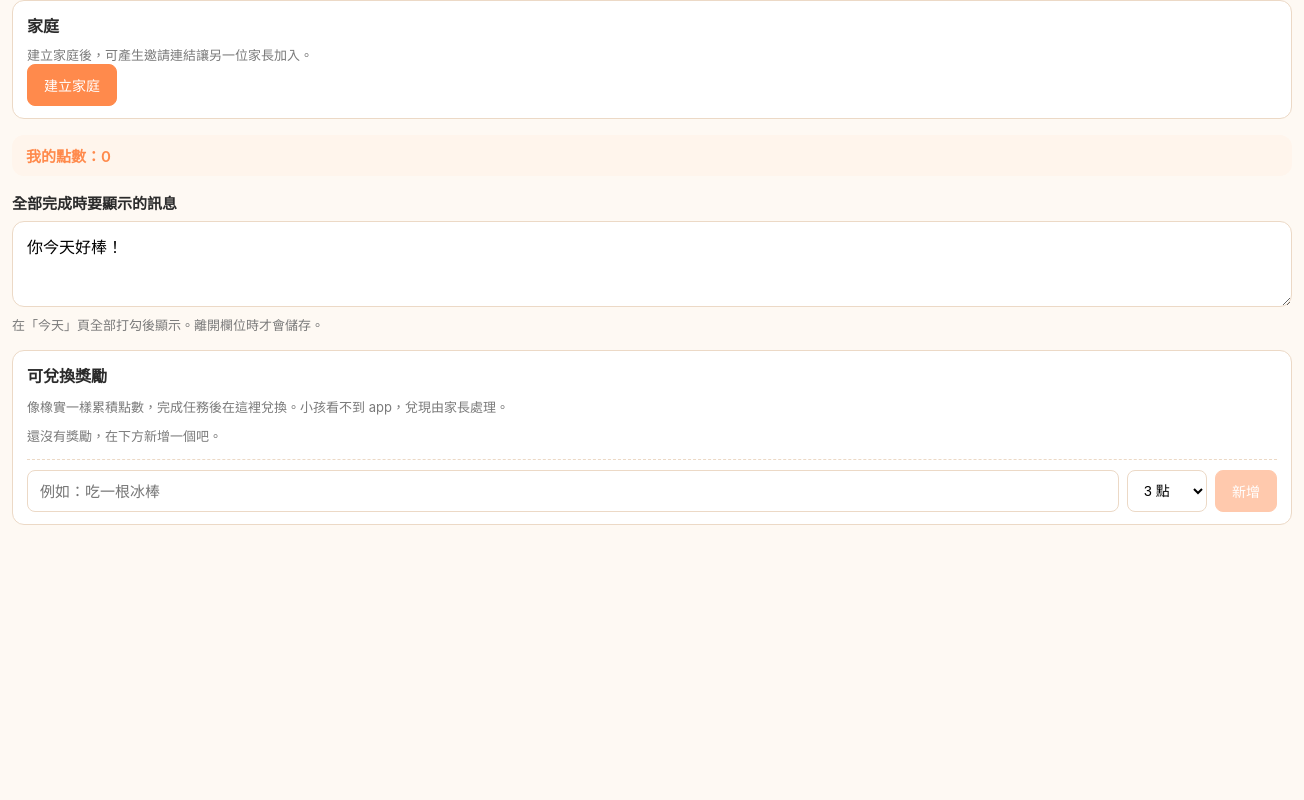
it: SettingsPage family section › shows offline message when creating family while offline
This screenshot has width=1304, height=800.
Click the button with test id "create-family-button": (72, 85) x1=27 y1=64 x2=117 y2=106
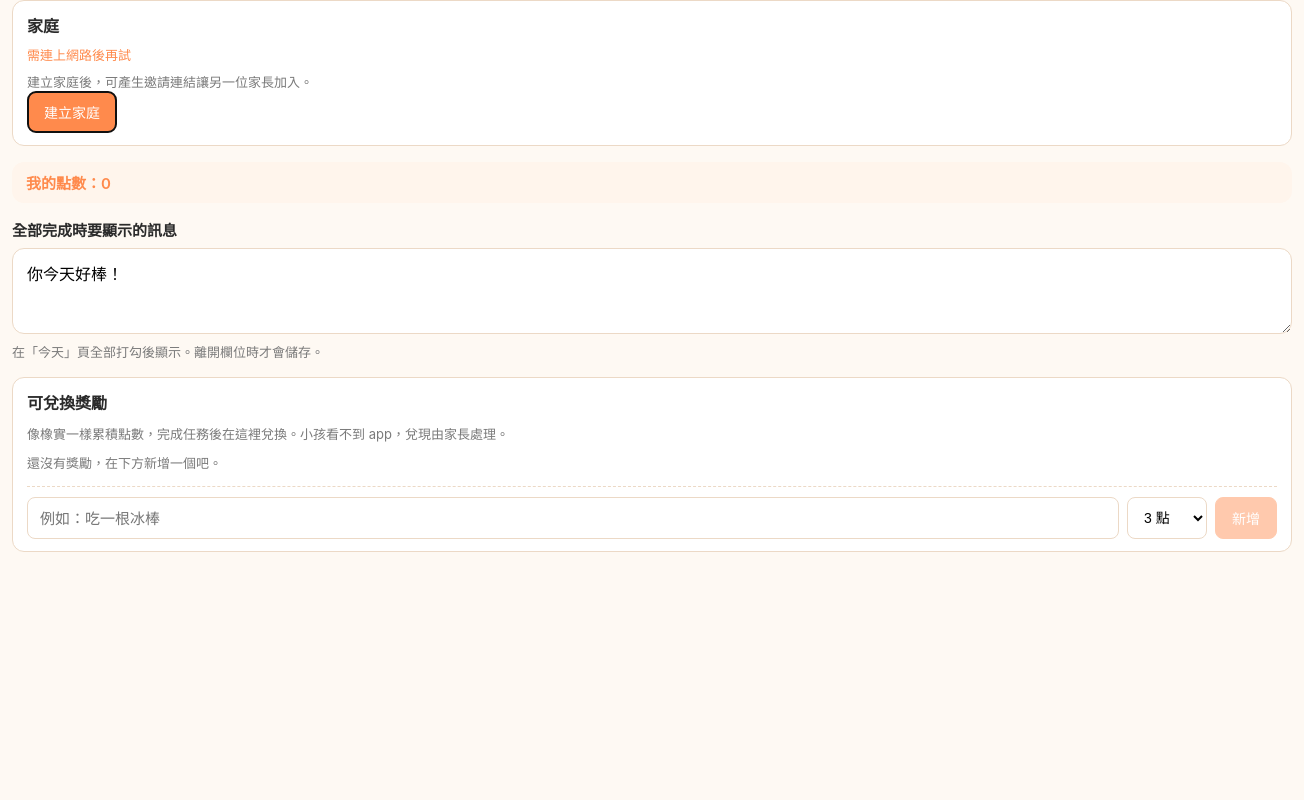
Expected: the message reads "需連上網路後再試", x1=27 y1=47 x2=131 y2=63
